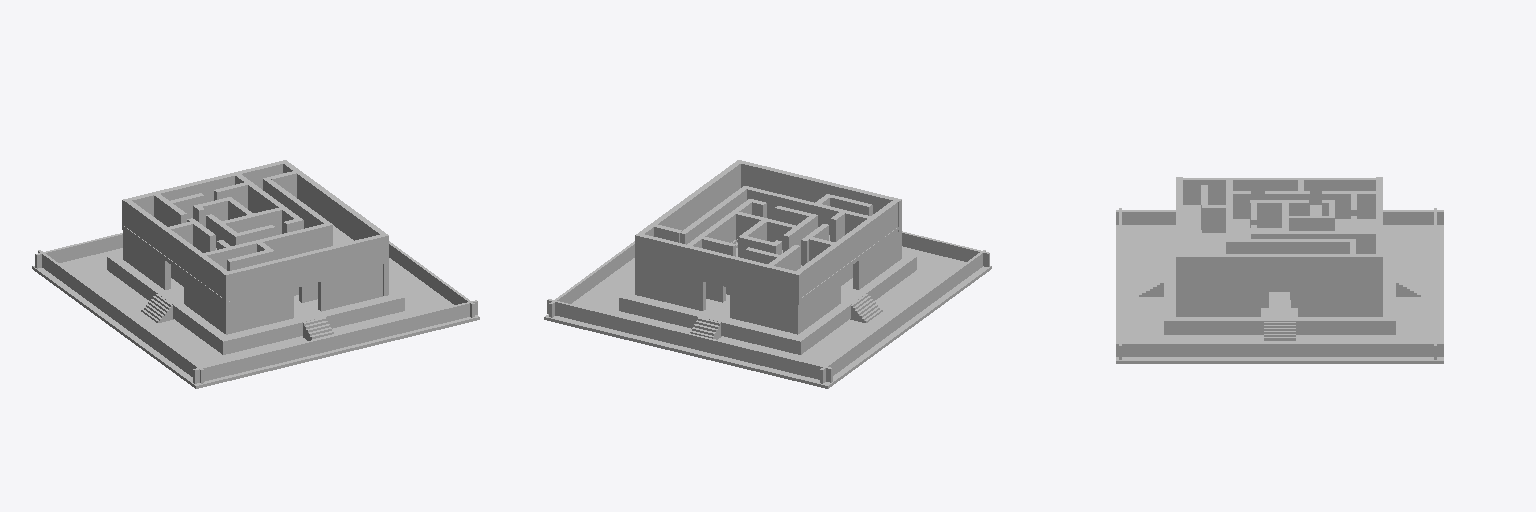
File: tamesiCol6.obj
3 views of the same model, side by side, from view 1: azimuth 30°, elevation 25°; view 2: azimuth 150°, elevation 25°; view 3: azimuth 270°, elevation 25° (orthographic).
Parts seen in each view (by area): view 1: Cube.099, grondS, Cube.115, dodai, sakuC.001, sakuC.003, sakuC.002, sakuC, Stairs.003, tougou.002, Stairs.001; view 2: Cube.099, grondS, Cube.115, dodai, sakuC, sakuC.003, sakuC.002, sakuC.001, Stairs.003; view 3: Cube.099, grondS, dodai, Cube.115, sakuC.002, tougou.002, sakuC.003, Stairs.004.
Part boxes in pixels (x1,y1,x2,y2): Cube.099: (122,160,388,304); grondS: (32,248,479,388); Cube.115: (123,230,388,334); dodai: (107,253,404,354); sakuC.001: (193,300,477,383); sakuC.003: (38,250,203,383); sakuC.002: (389,241,474,317); sakuC: (35,233,122,268); Stairs.003: (141,294,173,322); tougou.002: (123,225,353,300); Stairs.001: (303,317,334,340); Cube.099: (635,160,901,304); grondS: (544,246,991,388); Cube.115: (635,230,901,334); dodai: (619,253,916,354); sakuC: (547,299,832,382); sakuC.003: (820,250,985,383); sakuC.002: (549,241,634,317); sakuC.001: (902,231,989,266); Stairs.003: (850,294,882,322); Cube.099: (1176,177,1382,286); grondS: (1116,225,1443,363); dodai: (1164,233,1395,334); Cube.115: (1176,284,1382,316); sakuC.002: (1116,342,1443,356); tougou.002: (1183,205,1375,253); sakuC.003: (1116,210,1443,224); Stairs.004: (1264,322,1295,341).
Bounding box in the file's own units: 100 × 26 × 100.